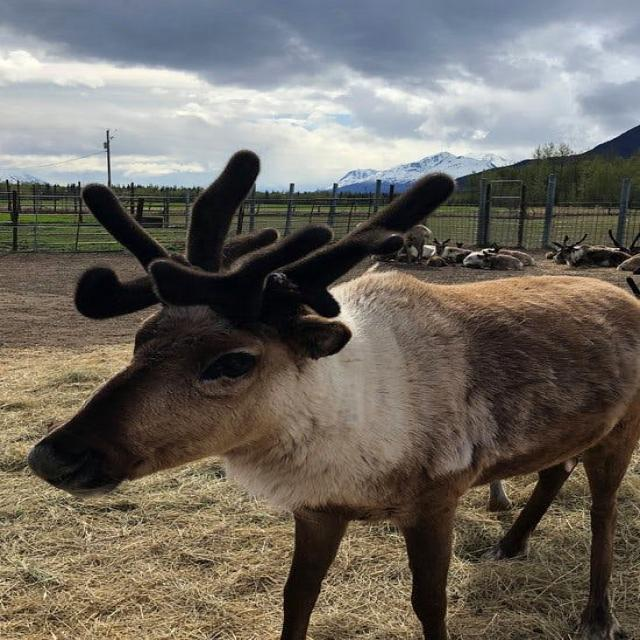reindeer: (28, 151, 639, 639)
